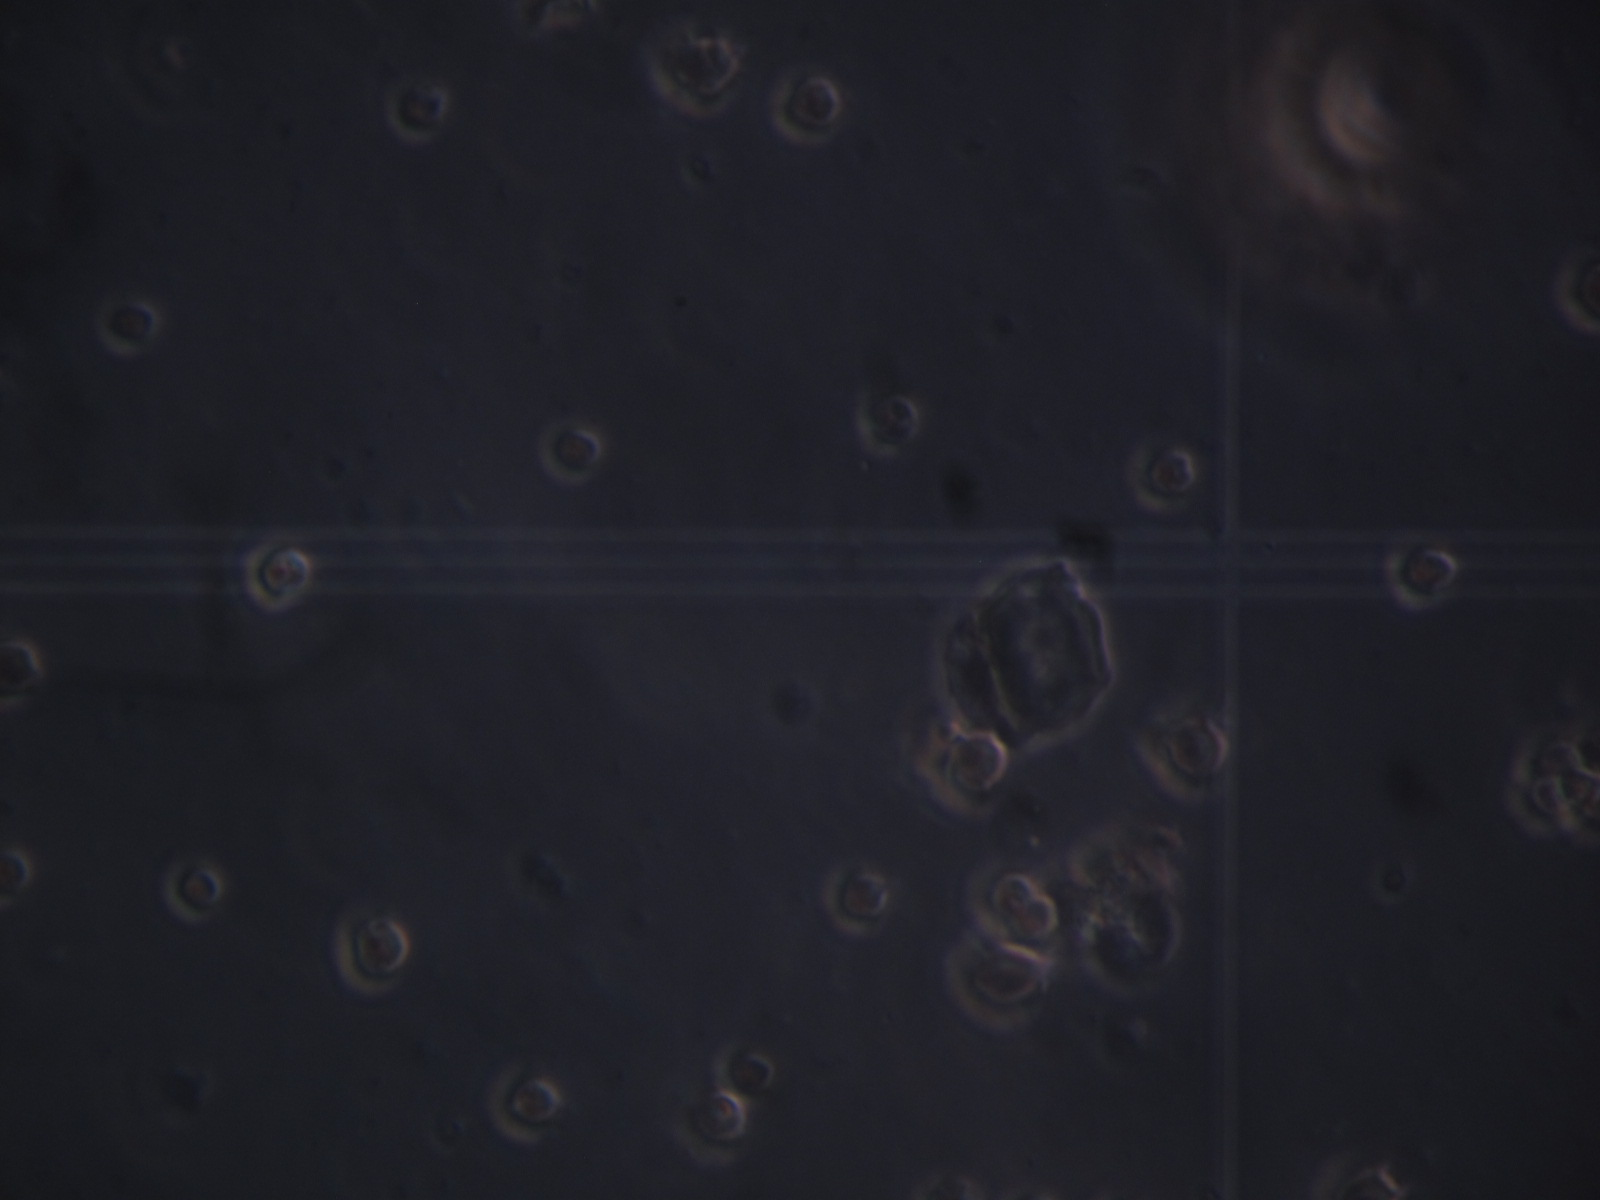hemo: (942, 937, 1047, 1029), (1139, 712, 1230, 799), (645, 34, 738, 117), (929, 729, 1008, 817), (770, 62, 847, 147), (333, 906, 407, 992), (824, 853, 896, 938), (677, 1089, 751, 1163), (1385, 542, 1459, 613), (495, 1065, 563, 1141), (242, 545, 312, 611), (1125, 442, 1196, 508), (855, 387, 918, 458), (539, 418, 603, 487), (968, 858, 1037, 921), (389, 83, 454, 140), (717, 1041, 771, 1105), (100, 301, 160, 354), (168, 861, 224, 916), (1010, 894, 1065, 952), (1, 637, 43, 706), (1, 848, 33, 908)
